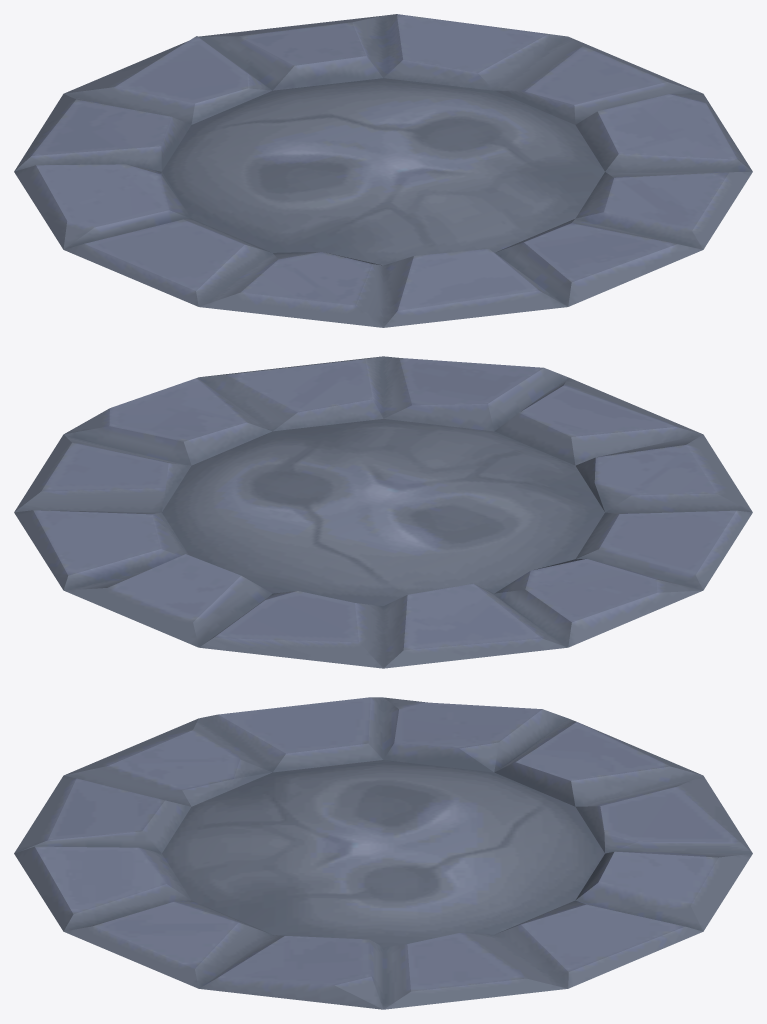
File: FloorDeco2B-001_02_04_1417.fbx
3 views of the same model, one above another, from view 1: azimuth 30°, elevation 25°; view 2: azimuth 150°, elevation 25°; view 3: azimuth 270°, elevation 25° (orthographic).
Visible parts, largest first — view 1: Plinth; view 2: Plinth; view 3: Plinth.
Part boxes in pixels (x1,y1,x2,y2): Plinth: [14, 14, 752, 327]; Plinth: [14, 356, 752, 668]; Plinth: [14, 697, 752, 1009].
Size of the model in its own units: 5.22 by 0.1185 by 5.22.
